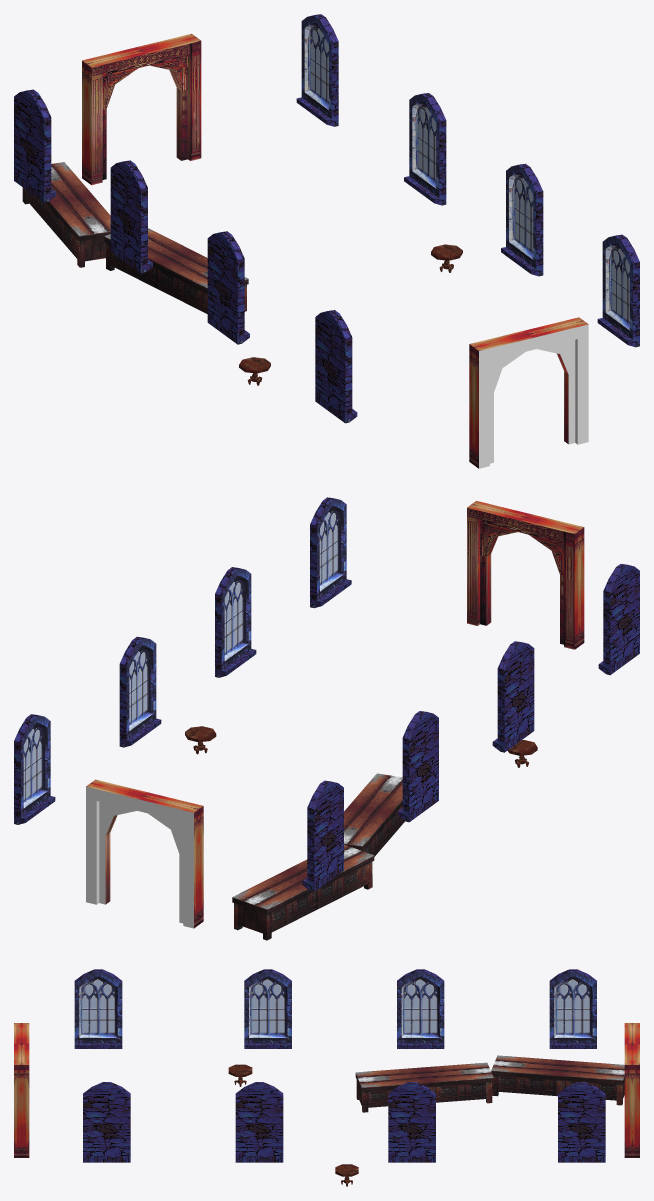
The model's file is ROOM2_Objects.fbx.
The picture shows the model from 3 angles, top to bottom: view 1: azimuth 30°, elevation 25°; view 2: azimuth 150°, elevation 25°; view 3: azimuth 270°, elevation 25°; orthographic projection. The views are drawn at different scales.
Visible parts, largest first — view 1: doorway.003, doorway.002, cabinet.001, cabinet.009, window.001, window.003, window, window.002, window.005, window.006, window.007, window.004; view 2: doorway.002, doorway.003, cabinet.001, window.002, window.006, window, window.001, window.003, window.004, window.005, window.007, cabinet.009; view 3: cabinet.001, cabinet.009, window.001, window.007, window.002, window, window.003, window.004, window.005, window.006, doorway.002, doorway.003 (+2 smaller).
Boxes of the visible parts, x1,y1,x2,y2 form: doorway.003: (82, 33, 201, 185); doorway.002: (469, 317, 588, 468); cabinet.001: (22, 162, 110, 267); cabinet.009: (104, 228, 248, 313); window.001: (501, 163, 543, 276); window.003: (296, 14, 338, 126); window: (597, 234, 639, 347); window.002: (404, 93, 446, 205); window.005: (110, 160, 152, 273); window.006: (207, 231, 249, 344); window.007: (315, 310, 357, 423); window.004: (14, 89, 56, 202); doorway.002: (467, 501, 584, 649); doorway.003: (86, 779, 203, 928); cabinet.001: (232, 844, 374, 940); window.002: (119, 636, 161, 747); window.006: (492, 641, 534, 752); window: (310, 497, 351, 608); window.001: (215, 567, 256, 677); window.003: (14, 714, 55, 824); window.004: (302, 780, 343, 891); window.005: (397, 711, 438, 822); window.007: (598, 564, 639, 675); cabinet.009: (344, 773, 404, 856); cabinet.001: (491, 1055, 624, 1105); cabinet.009: (355, 1062, 493, 1112); window.001: (235, 1082, 283, 1162); window.007: (74, 969, 122, 1048); window.002: (388, 1082, 435, 1162); window: (83, 1082, 130, 1162); window.003: (558, 1082, 605, 1162); window.004: (549, 969, 596, 1048); window.005: (397, 969, 444, 1048); window.006: (244, 969, 291, 1048); doorway.002: (14, 1023, 29, 1157); doorway.003: (624, 1023, 639, 1157).
Size of the model in its own units: 1610 by 722 by 3691.
